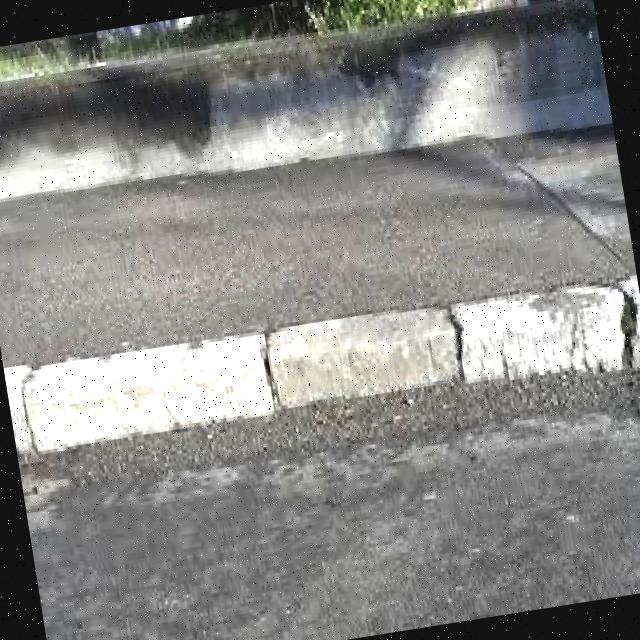curb: (6, 280, 638, 454)
